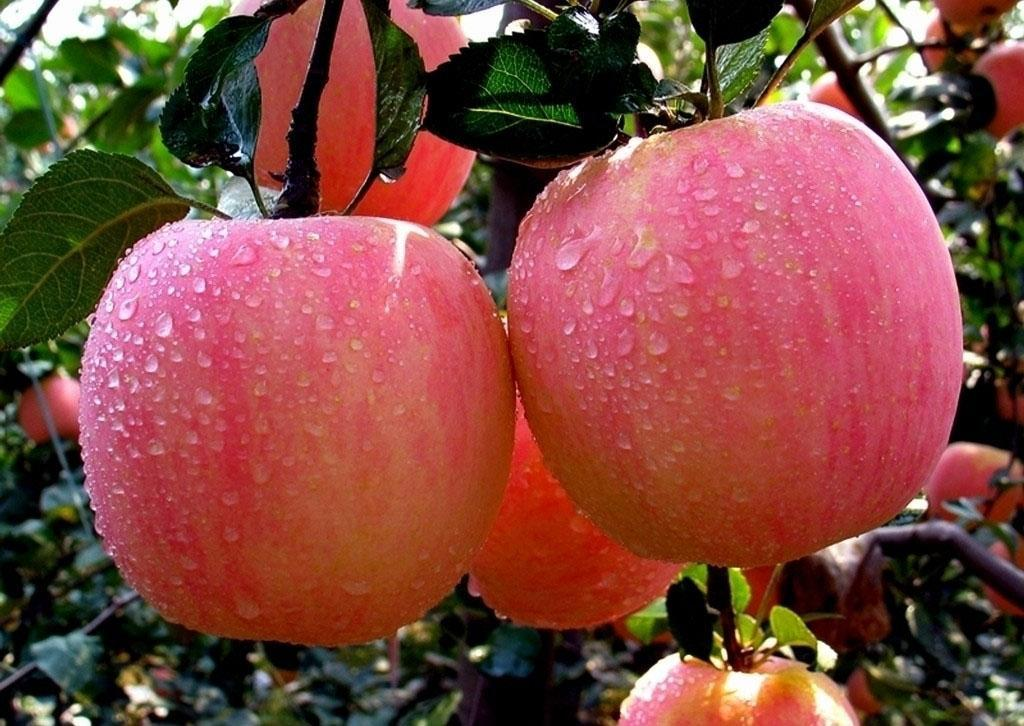apple: (64, 129, 908, 652), (485, 102, 946, 581), (85, 212, 524, 645), (618, 646, 862, 722)
